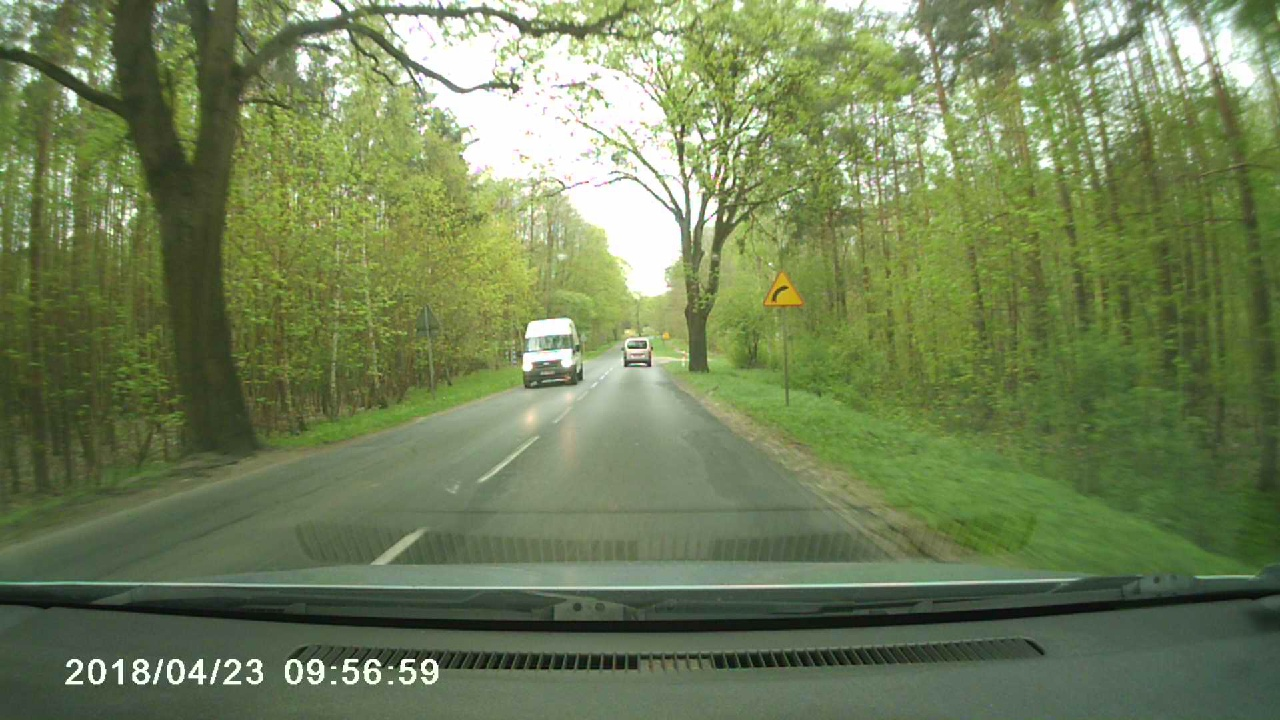A1: (763, 271, 805, 306)
